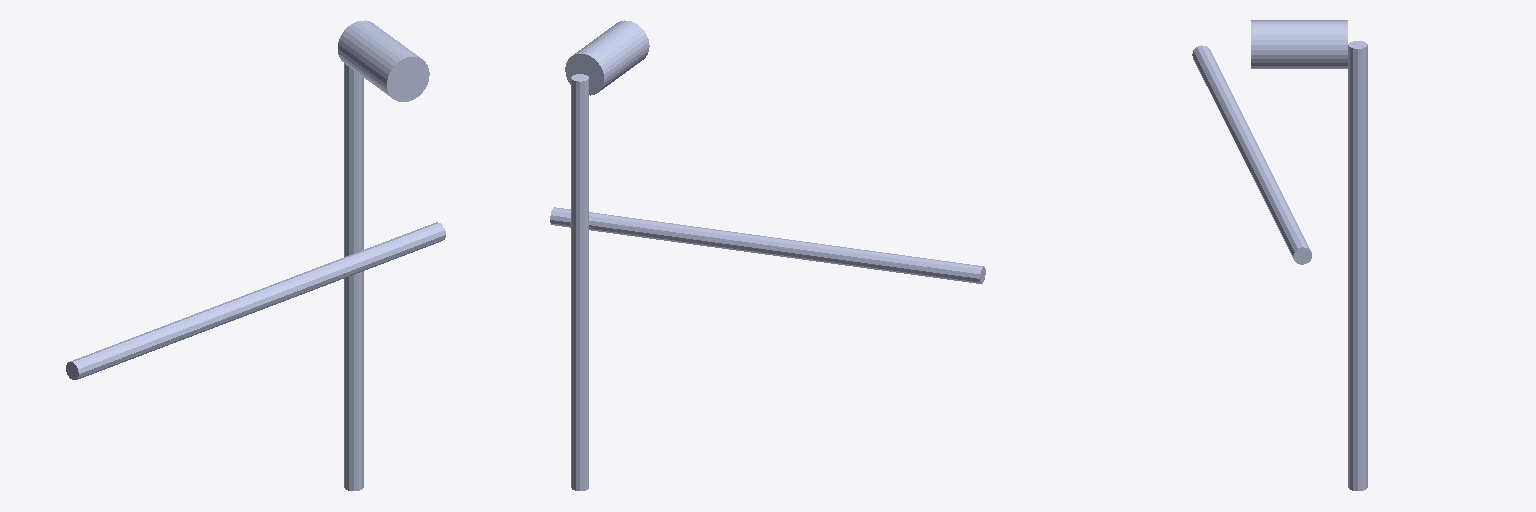
robot.urdf — compass_gait_walker:
<?xml version="1.0" encoding="utf-8"?>
<!-- This URDF was automatically created by SolidWorks to URDF Exporter! Originally created by [author] ([email redacted]) 
     Commit Version: 1.4.4-24-g24328f6  Build Version: 1.5.7084.36479
     For more information, please see http://wiki.ros.org/sw_urdf_exporter -->
<robot
  name="compass_gait_walker">
  <link
    name="base_link">
    <inertial>
      <origin
        xyz="0 0 0"
        rpy="0 0 0" />
      <mass
        value="10" />
      <inertia
        ixx="0.0062177"
        ixy="9.035E-20"
        ixz="-3.2627E-52"
        iyy="0.0019635"
        iyz="1.5178E-35"
        izz="0.0062177" />
    </inertial>
    <visual>
      <origin
        xyz="0 0 0"
        rpy="0 0 0" />
      <geometry>
        <mesh
          filename="package://compass_gait_walker/meshes/base_link.STL" />
      </geometry>
      <material
        name="">
        <color
          rgba="0.79216 0.81961 0.93333 1" />
      </material>
    </visual>
    <collision>
      <origin
        xyz="0 0 0"
        rpy="0 0 0" />
      <geometry>
        <mesh
          filename="package://compass_gait_walker/meshes/base_link.STL" />
      </geometry>
    </collision>
  </link>
  <link
    name="right_leg_link">
    <inertial>
      <origin
        xyz="0 1.3878E-17 5.5511E-17"
        rpy="0 0 0" />
      <mass
        value="5" />
      <inertia
        ixx="0.10485"
        ixy="-1.6544E-22"
        ixz="-1.4117E-20"
        iyy="0.10485"
        iyz="-4.5175E-19"
        izz="0.00025133" />
    </inertial>
    <visual>
      <origin
        xyz="0 0 0"
        rpy="0 0 0" />
      <geometry>
        <mesh
          filename="package://compass_gait_walker/meshes/right_leg_link.STL" />
      </geometry>
      <material
        name="">
        <color
          rgba="0.79216 0.81961 0.93333 1" />
      </material>
    </visual>
    <collision>
      <origin
        xyz="0 0 0"
        rpy="0 0 0" />
      <geometry>
        <mesh
          filename="package://compass_gait_walker/meshes/right_leg_link.STL" />
      </geometry>
    </collision>
  </link>
  <joint
    name="right_leg_joint"
    type="revolute">
    <origin
      xyz="0 0.12 -0.5"
      rpy="0 0 0" />
    <parent
      link="base_link" />
    <child
      link="right_leg_link" />
    <axis
      xyz="0 -1 0" />
    <limit
      lower="-1.57"
      upper="1.57"
      effort="100"
      velocity="100" />
    <safety_controller
      k_velocity="0" />
  </joint>
  <link
    name="left_leg_link">
    <inertial>
      <origin
        xyz="0 0 -5.5511E-17"
        rpy="0 0 0" />
      <mass
        value="5" />
      <inertia
        ixx="0.10485"
        ixy="-4.4116E-22"
        ixz="-6.6109E-20"
        iyy="0.10485"
        iyz="3.2693E-18"
        izz="0.00025133" />
    </inertial>
    <visual>
      <origin
        xyz="0 0 0"
        rpy="0 0 0" />
      <geometry>
        <mesh
          filename="package://compass_gait_walker/meshes/left_leg_link.STL" />
      </geometry>
      <material
        name="">
        <color
          rgba="0.79216 0.81961 0.93333 1" />
      </material>
    </visual>
    <collision>
      <origin
        xyz="0 0 0"
        rpy="0 0 0" />
      <geometry>
        <mesh
          filename="package://compass_gait_walker/meshes/left_leg_link.STL" />
      </geometry>
    </collision>
  </link>
  <joint
    name="left_leg_joint"
    type="revolute">
    <origin
      xyz="0 -0.12 -0.5"
      rpy="0 0 0" />
    <parent
      link="base_link" />
    <child
      link="left_leg_link" />
    <axis
      xyz="0 -1 0" />
    <limit
      lower="-1.57"
      upper="1.57"
      effort="100"
      velocity="100" />
    <safety_controller
      k_velocity="0" />
  </joint>
</robot>

--- Facts derived from the render (not from the file) ---
Views: 3 orthographic renders of the robot side by side, from view 1: azimuth 30°, elevation 25°; view 2: azimuth 150°, elevation 25°; view 3: azimuth 270°, elevation 25°.
Robot: compass_gait_walker — 3 links, 2 joints (2 revolute); root link base_link; default pose: every joint at zero.
Links seen in each view (by area): view 1: right_leg_link, left_leg_link, base_link; view 2: left_leg_link, right_leg_link, base_link; view 3: right_leg_link, base_link, left_leg_link.
Link boxes in pixels (<box>): right_leg_link: <box>344,63,363,490</box>; left_leg_link: <box>66,222,445,379</box>; base_link: <box>338,20,429,101</box>; left_leg_link: <box>550,207,985,283</box>; right_leg_link: <box>571,74,588,490</box>; base_link: <box>565,20,649,95</box>; right_leg_link: <box>1348,41,1367,490</box>; base_link: <box>1251,20,1347,68</box>; left_leg_link: <box>1192,45,1311,264</box>.
Bounding box of the posed robot: 0.9866 × 0.3599 × 1.05 m (x, y, z).
3 mesh visuals loaded from 3 distinct referenced files (3 binary STL).